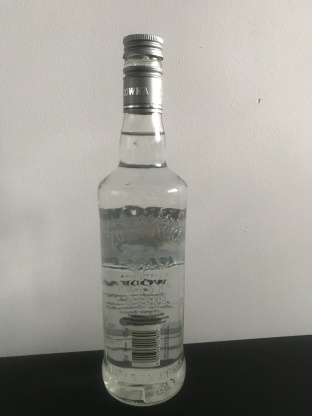nakretka: (121, 30, 165, 115)
